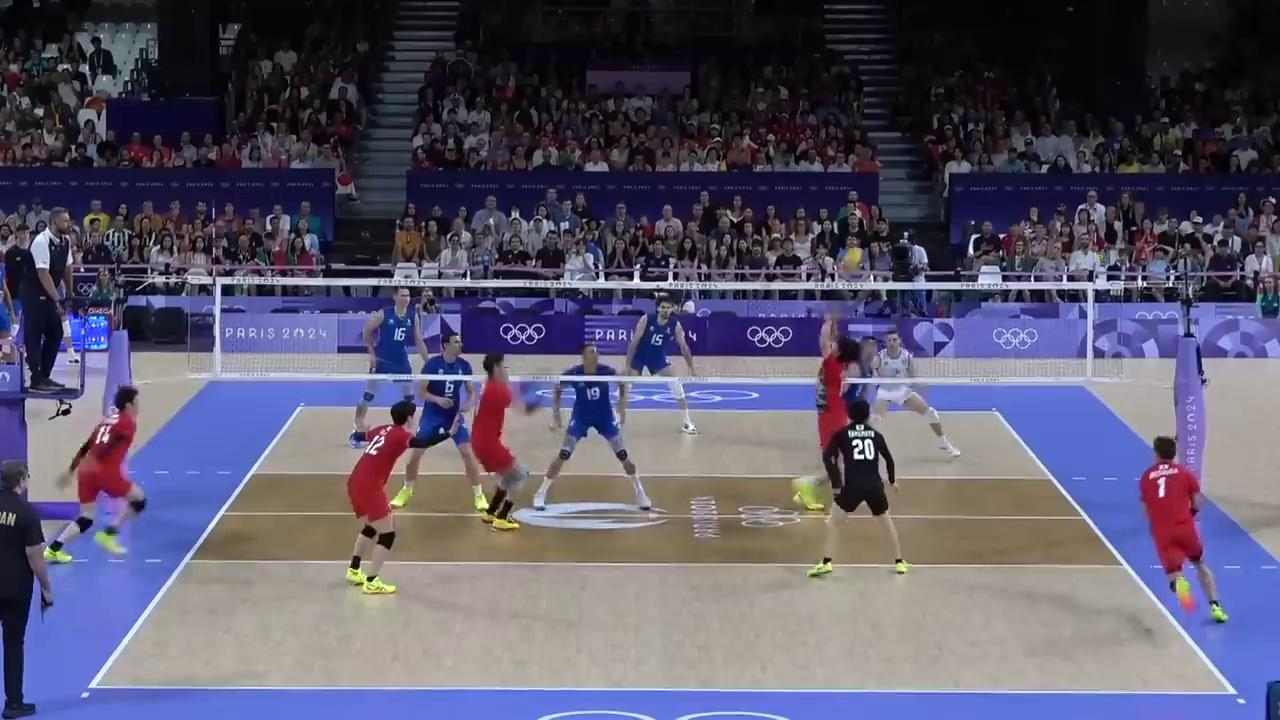ball: (840, 247, 865, 272)
